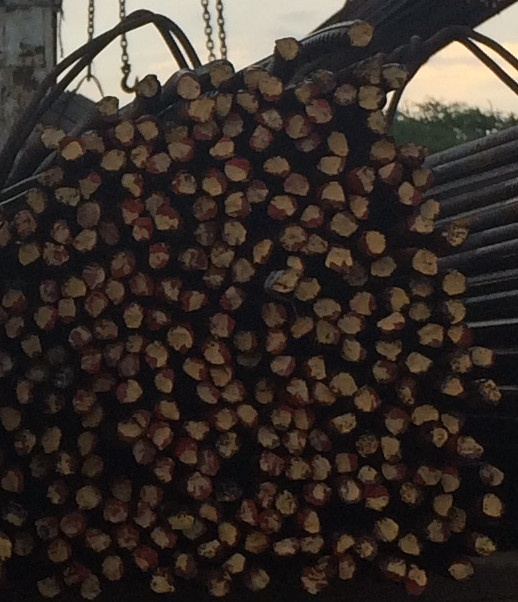dipstick: (267, 193, 298, 222), (36, 385, 65, 415), (206, 311, 236, 338), (283, 111, 311, 138), (336, 476, 364, 503), (155, 203, 182, 231), (348, 292, 382, 314), (209, 60, 235, 88), (213, 432, 242, 457), (411, 248, 438, 274), (415, 323, 442, 349), (475, 379, 501, 406), (151, 521, 178, 547), (59, 511, 86, 537), (109, 249, 136, 275), (354, 385, 382, 410), (12, 527, 37, 555), (331, 211, 360, 235), (280, 224, 306, 250), (201, 169, 227, 195), (442, 408, 468, 434), (258, 76, 285, 101), (205, 572, 232, 597), (131, 545, 158, 570), (133, 439, 160, 464), (1, 466, 26, 493), (58, 135, 85, 160), (358, 85, 386, 109), (242, 566, 270, 590), (149, 421, 173, 449), (202, 341, 231, 364), (321, 182, 346, 208), (220, 220, 246, 245), (253, 239, 278, 265), (196, 450, 222, 475), (254, 377, 279, 403), (144, 340, 169, 366), (12, 210, 37, 236), (189, 98, 216, 122), (172, 136, 196, 163), (395, 531, 422, 555), (373, 360, 400, 384), (367, 482, 390, 510), (271, 269, 299, 292), (153, 454, 175, 483), (264, 330, 289, 355), (384, 408, 409, 433), (449, 323, 474, 348), (250, 125, 274, 151), (326, 248, 352, 272), (223, 157, 249, 181), (294, 277, 320, 301), (283, 429, 307, 455), (118, 416, 144, 440), (13, 428, 37, 454), (306, 99, 333, 122), (225, 193, 252, 216), (182, 356, 209, 379), (188, 474, 212, 499), (373, 517, 397, 542), (382, 459, 407, 483), (103, 497, 128, 521), (36, 515, 60, 540), (118, 523, 142, 548), (94, 318, 119, 342), (83, 263, 107, 288), (43, 242, 68, 266), (406, 211, 432, 234), (221, 287, 247, 310), (262, 302, 288, 325), (330, 373, 356, 396), (151, 569, 177, 592), (78, 201, 100, 228), (356, 433, 380, 457), (399, 480, 423, 504), (479, 461, 503, 485), (302, 568, 326, 592), (46, 480, 70, 504), (140, 484, 164, 508), (121, 200, 145, 224), (33, 305, 57, 329), (181, 289, 206, 312), (331, 409, 356, 432), (341, 340, 366, 363), (457, 433, 482, 456), (86, 527, 111, 550), (133, 500, 156, 525), (149, 244, 172, 269), (97, 95, 120, 120), (138, 116, 161, 141), (84, 291, 107, 316), (192, 198, 218, 220), (171, 326, 193, 352), (197, 539, 223, 561), (270, 355, 296, 377), (405, 568, 427, 594), (81, 403, 103, 429), (262, 156, 289, 177), (176, 436, 197, 463), (348, 22, 372, 45), (285, 172, 309, 195), (236, 90, 260, 113), (220, 113, 244, 136), (210, 136, 234, 159), (210, 243, 234, 266), (196, 380, 220, 403), (261, 451, 284, 475), (316, 320, 340, 343), (309, 455, 332, 479), (440, 374, 464, 397), (442, 300, 466, 323), (444, 271, 467, 295), (77, 485, 100, 509), (78, 431, 102, 454), (117, 379, 141, 402), (82, 129, 105, 153), (102, 556, 124, 581), (399, 144, 425, 165), (221, 380, 247, 401), (304, 483, 330, 504), (378, 312, 404, 333), (375, 338, 401, 359), (245, 180, 268, 203), (213, 407, 236, 430), (286, 457, 309, 480), (274, 532, 297, 555), (119, 353, 142, 376), (138, 74, 161, 97), (123, 172, 146, 195), (131, 273, 154, 296), (383, 63, 405, 87), (366, 111, 390, 133), (328, 131, 350, 155), (208, 364, 232, 386), (218, 522, 240, 546), (258, 509, 282, 531), (276, 490, 298, 514), (335, 451, 359, 473), (384, 288, 406, 312), (79, 457, 103, 479), (147, 151, 171, 173), (106, 278, 128, 302), (41, 126, 65, 148), (180, 249, 205, 270), (317, 156, 343, 176), (185, 419, 211, 439), (245, 532, 271, 552), (314, 299, 340, 319), (406, 352, 432, 372), (154, 399, 180, 419), (412, 405, 439, 424), (370, 140, 393, 162), (300, 205, 323, 227), (268, 406, 291, 428), (235, 329, 258, 351), (133, 218, 155, 241), (3, 290, 25, 313), (73, 228, 96, 250), (47, 343, 69, 366), (177, 170, 198, 194), (176, 554, 200, 575), (337, 314, 361, 335), (42, 427, 63, 451), (1, 405, 22, 429), (61, 275, 85, 296), (23, 360, 47, 381), (80, 574, 100, 599), (412, 167, 434, 189), (194, 223, 216, 245), (433, 492, 455, 514), (158, 278, 180, 300), (27, 189, 49, 211), (276, 38, 299, 59), (428, 521, 451, 542), (483, 493, 504, 516), (69, 327, 92, 348), (102, 149, 125, 170), (39, 279, 60, 302), (365, 230, 385, 254), (259, 424, 279, 448), (124, 303, 143, 328), (178, 77, 200, 98), (449, 351, 471, 372), (21, 334, 42, 356), (19, 242, 40, 264), (381, 164, 404, 184), (154, 369, 174, 392), (357, 167, 375, 192), (473, 347, 494, 368), (399, 183, 419, 205), (349, 197, 369, 219), (237, 405, 259, 425), (335, 85, 357, 105), (38, 576, 60, 596), (194, 121, 217, 140), (372, 257, 395, 276), (417, 466, 440, 485), (116, 122, 135, 145), (223, 551, 244, 571), (385, 560, 405, 581), (57, 186, 79, 205), (450, 562, 473, 580), (132, 145, 150, 168), (304, 512, 324, 532), (49, 540, 69, 560), (309, 357, 328, 378), (358, 540, 379, 559), (59, 298, 76, 319), (6, 317, 23, 337), (442, 473, 460, 491), (431, 428, 448, 446), (423, 200, 439, 218)
